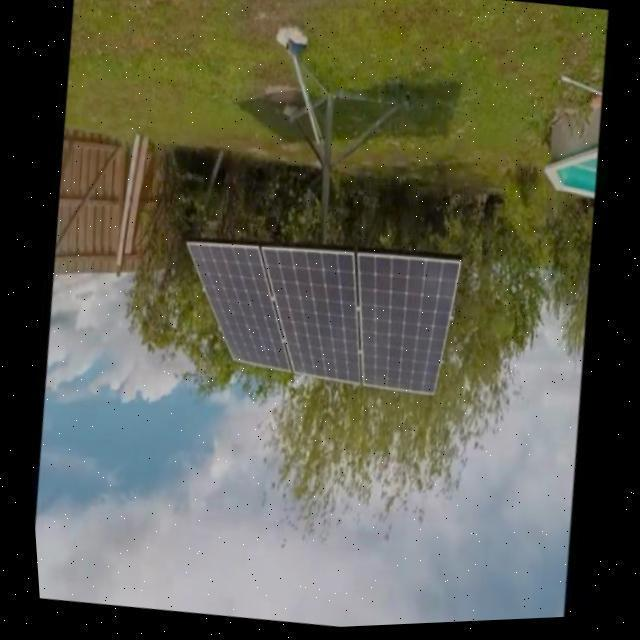Normal Solar Panel: (334, 248, 462, 402), (240, 242, 370, 391), (166, 237, 300, 377)
